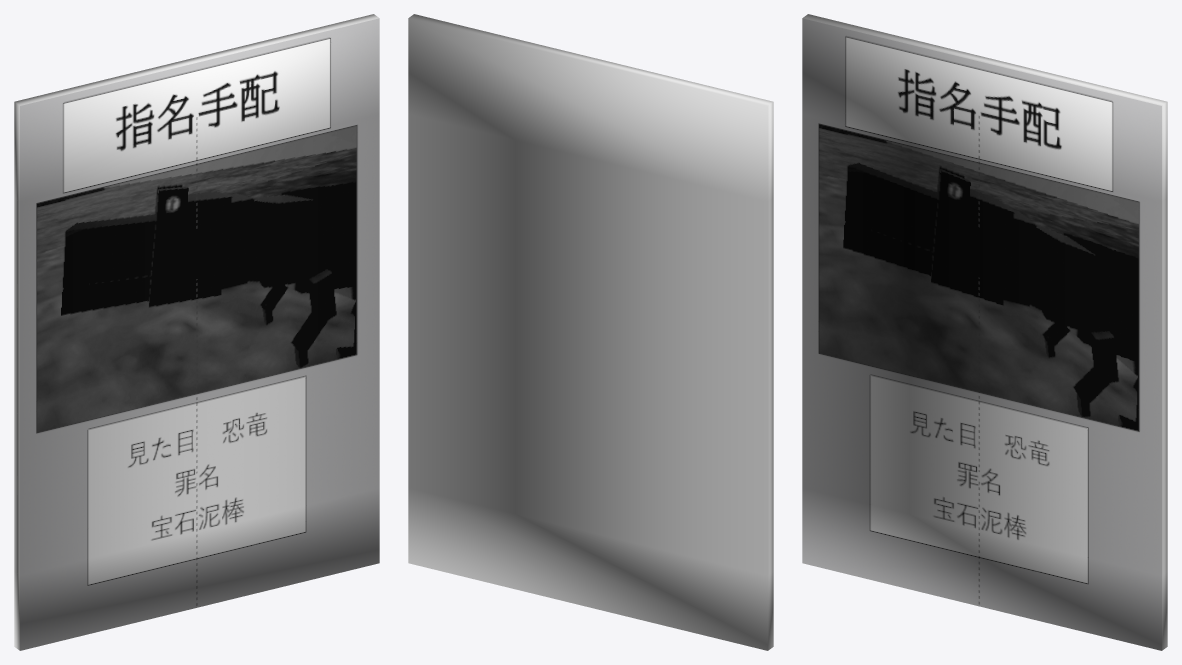
File: simeitehai.fbx
The picture shows the model from 3 angles, left to right: view 1: azimuth 30°, elevation 25°; view 2: azimuth 150°, elevation 25°; view 3: azimuth 330°, elevation 25°; orthographic projection.
Visible parts, largest first — view 1: 平面.011; view 2: 平面.011; view 3: 平面.011.
Part boxes in pixels (bbox=[...]): 平面.011: bbox=[14, 14, 379, 650]; 平面.011: bbox=[408, 14, 773, 650]; 平面.011: bbox=[802, 14, 1167, 650].
Size of the model in its own units: 138 by 200 by 3.88.
2 materials, 1 textured.
